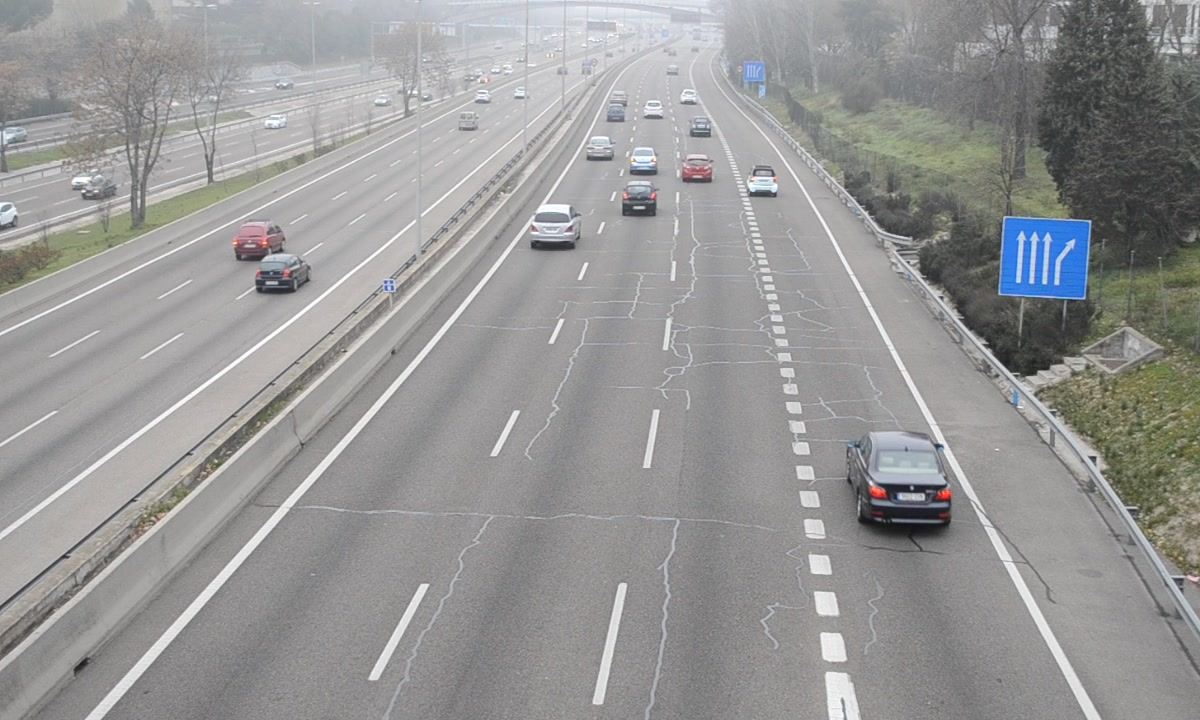car: (851, 432, 955, 530), (529, 202, 582, 246), (618, 180, 658, 219), (746, 162, 780, 198), (680, 153, 714, 186), (628, 146, 659, 176), (583, 134, 614, 161), (689, 114, 712, 138)
